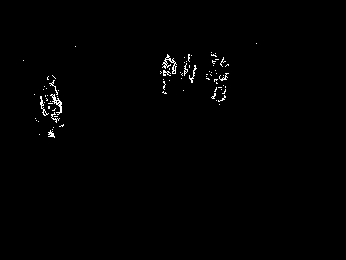person: (41, 74, 66, 139), (207, 51, 228, 103), (158, 51, 177, 94), (179, 53, 196, 94)
